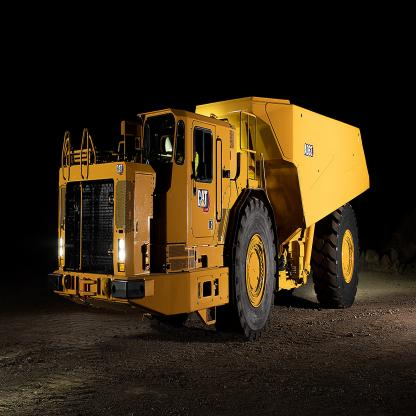dump_truck: (52, 60, 378, 320)
